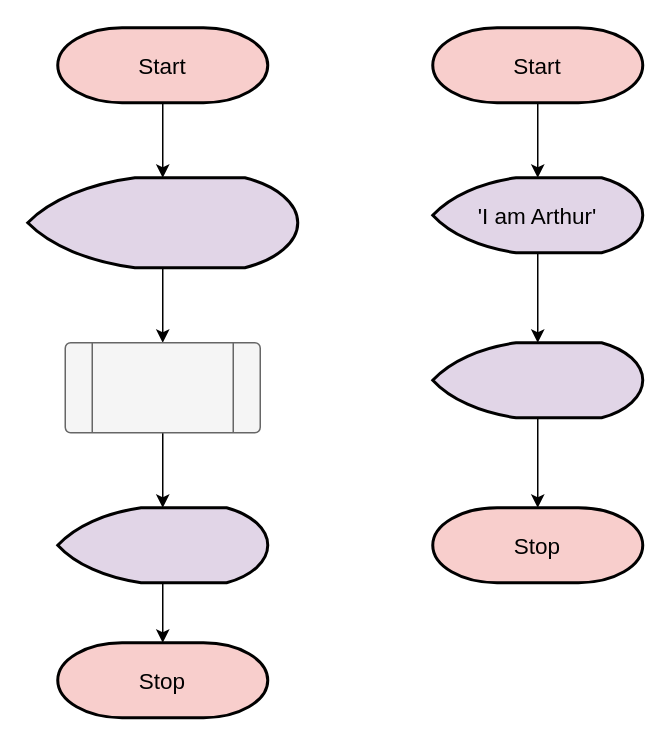
This 669x744 diagram has some shape labels left out. Here are the shapes that lost their labels. From the top down, the centre of each, then its label:
At [162,222]: "' I have a message for you.'".
At [537,379]: "'King of the Britons'".
At [162,545]: "'Goodbye!'".
